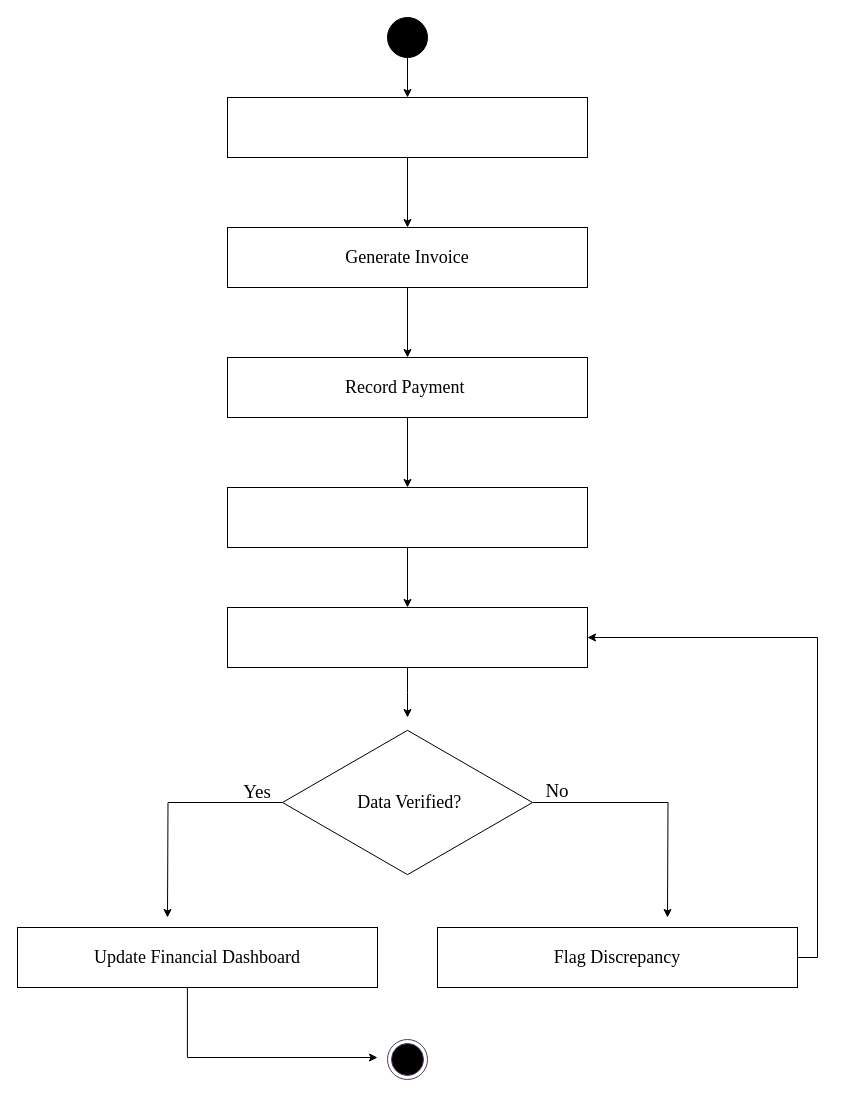
Some shapes in this 843 by 1097 pixel diagram are drawn without their labels. The centre of each missing label's shape, as x and y in pixels:
"Creates Sales Order" goes at (407,127).
"Record Expense" goes at (407,517).
"Redirect to Dashboard" goes at (407,637).
